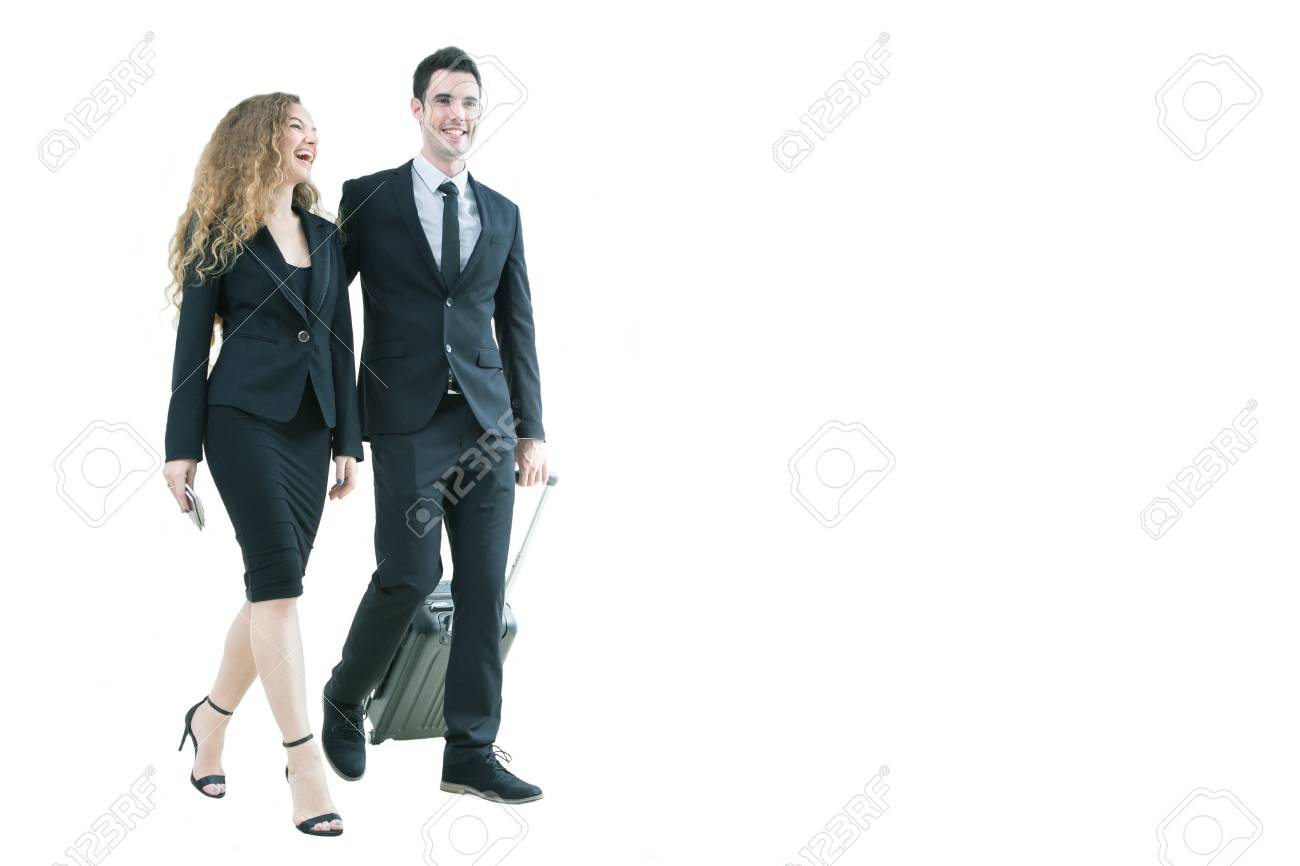feet: (314, 673, 546, 810), (173, 693, 358, 837)
